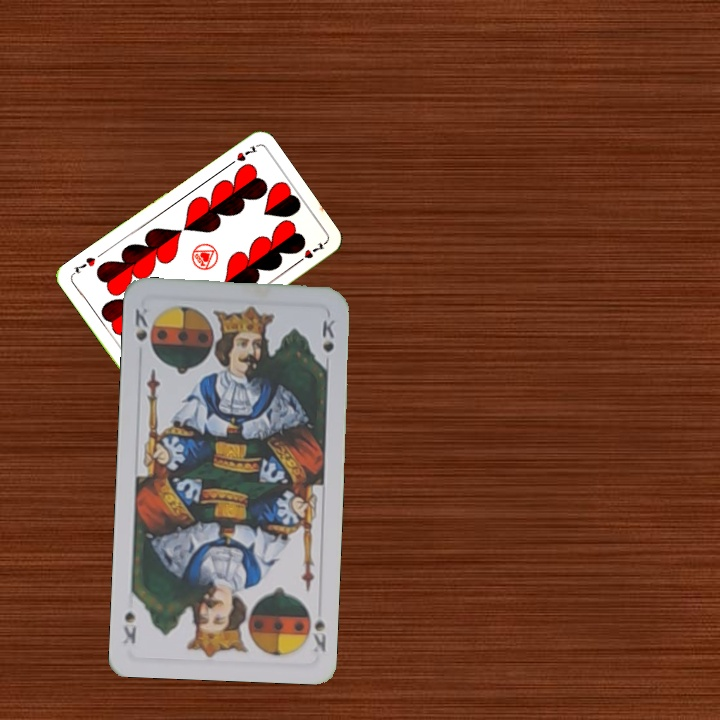H7: (224, 141, 260, 169)
SK: (302, 603, 329, 655), (131, 304, 151, 344)
